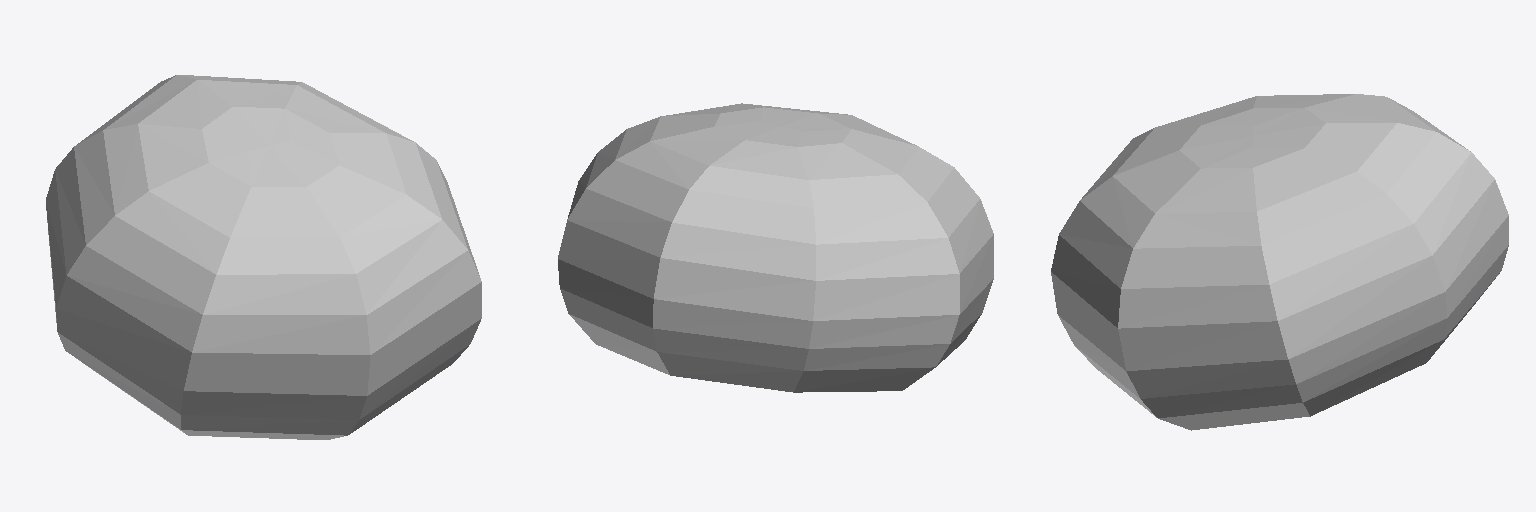
The model's file is baymax_head.obj.
3 renders of one model, left to right at view 1: azimuth 30°, elevation 25°; view 2: azimuth 150°, elevation 25°; view 3: azimuth 270°, elevation 25°, orthographic.
Parts seen in each view (by area): view 1: Bigmax_White_OBJ.001; view 2: Bigmax_White_OBJ.001; view 3: Bigmax_White_OBJ.001.
Part boxes in pixels (left/top/right/bottom): Bigmax_White_OBJ.001: left=46, top=75, right=481, bottom=439; Bigmax_White_OBJ.001: left=558, top=103, right=993, bottom=392; Bigmax_White_OBJ.001: left=1051, top=94, right=1508, bottom=430.
Bounding box in the file's own units: 15.23 × 9.9 × 15.43.